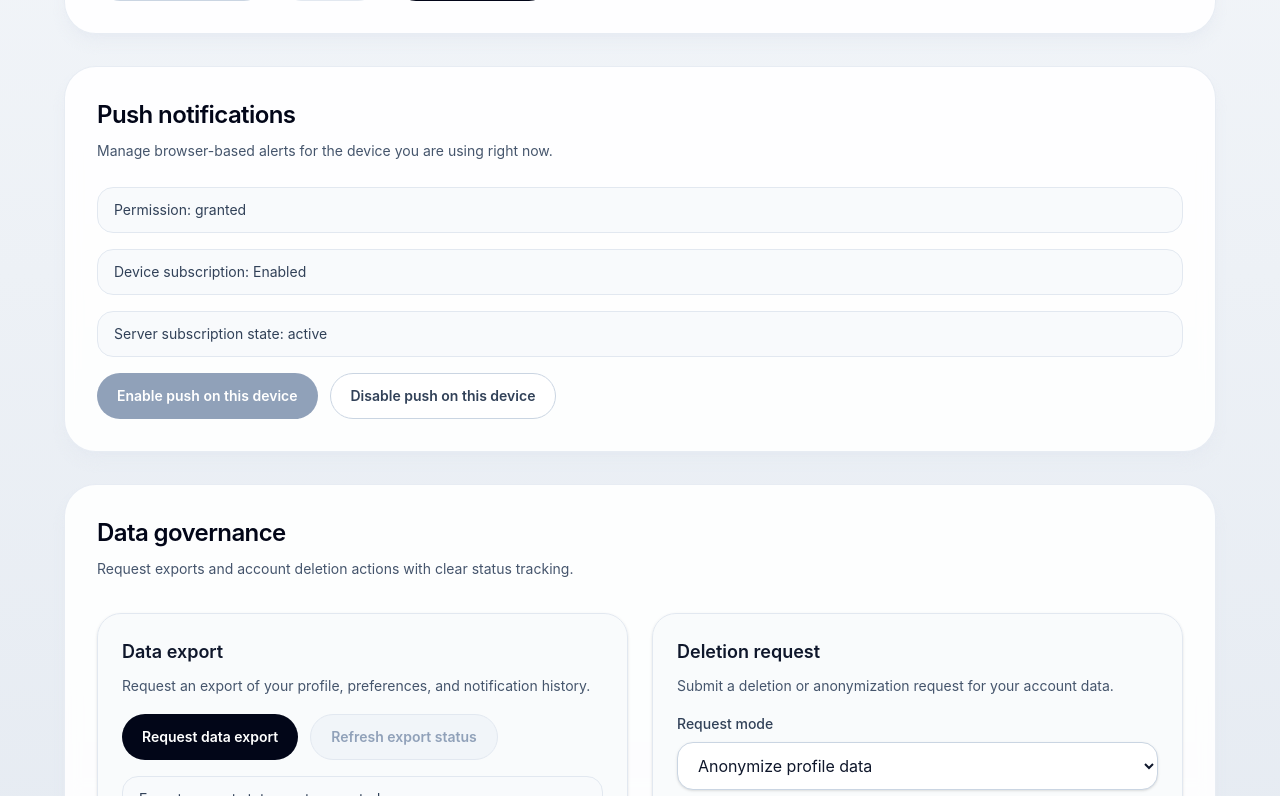
Scenario: SettingsPreferencesForm › unsubscribes push when already subscribed
(page scrolled)
Check: the text "Device subscription: Enabled" is shown, box [97,249,1183,295]
Click the button "Disable push on this device": (443, 396) [330,373,556,419]
(page scrolled)
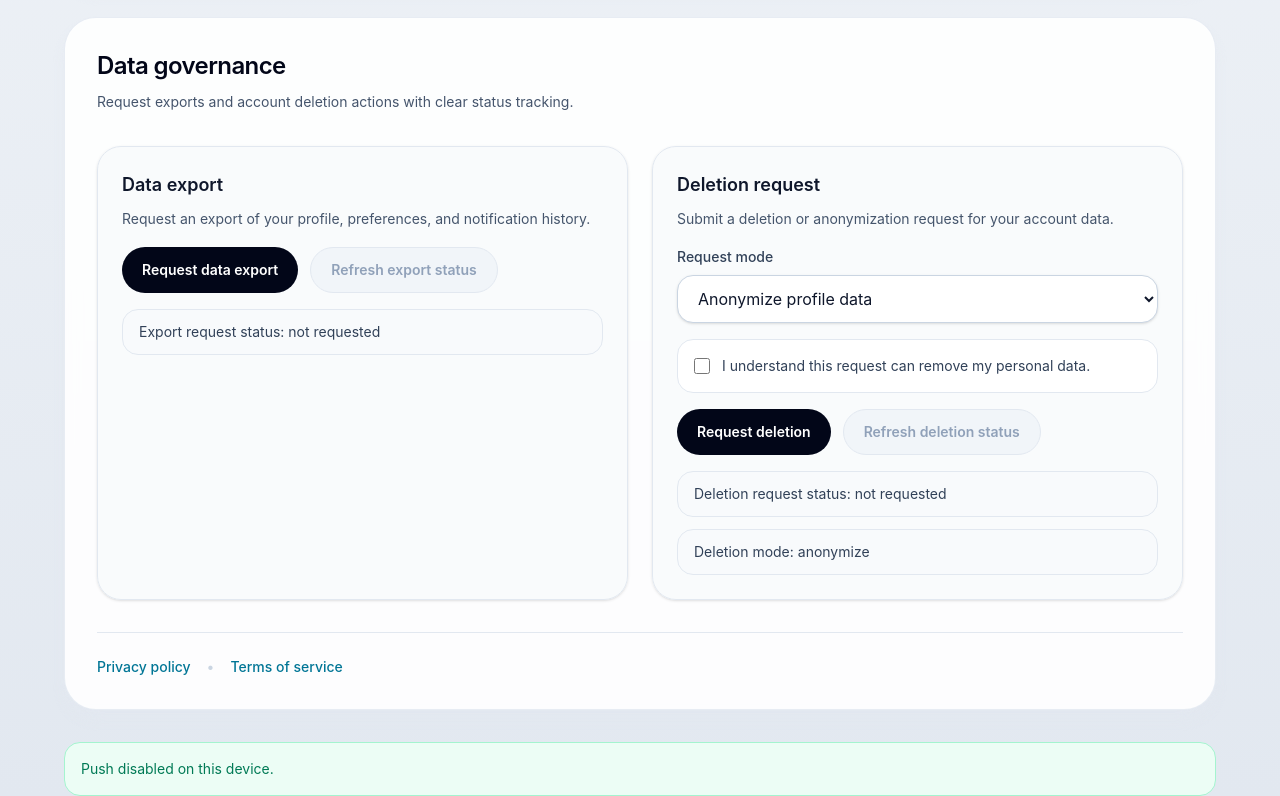
Check: the text "Push disabled on this device." is shown, box [64,742,1216,795]
